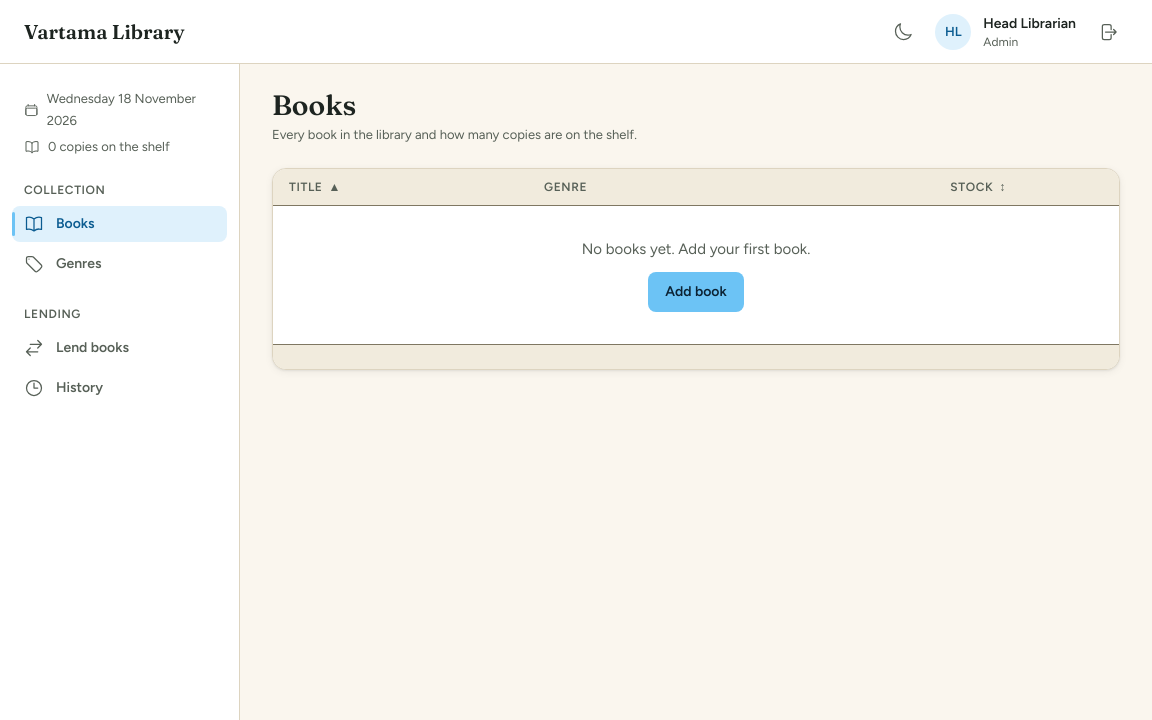
Test: App shell (signed in) › switches and remembers the theme
Click the button named "Switch to dark theme".
click(903, 32)  # box 883,12 -> 923,52
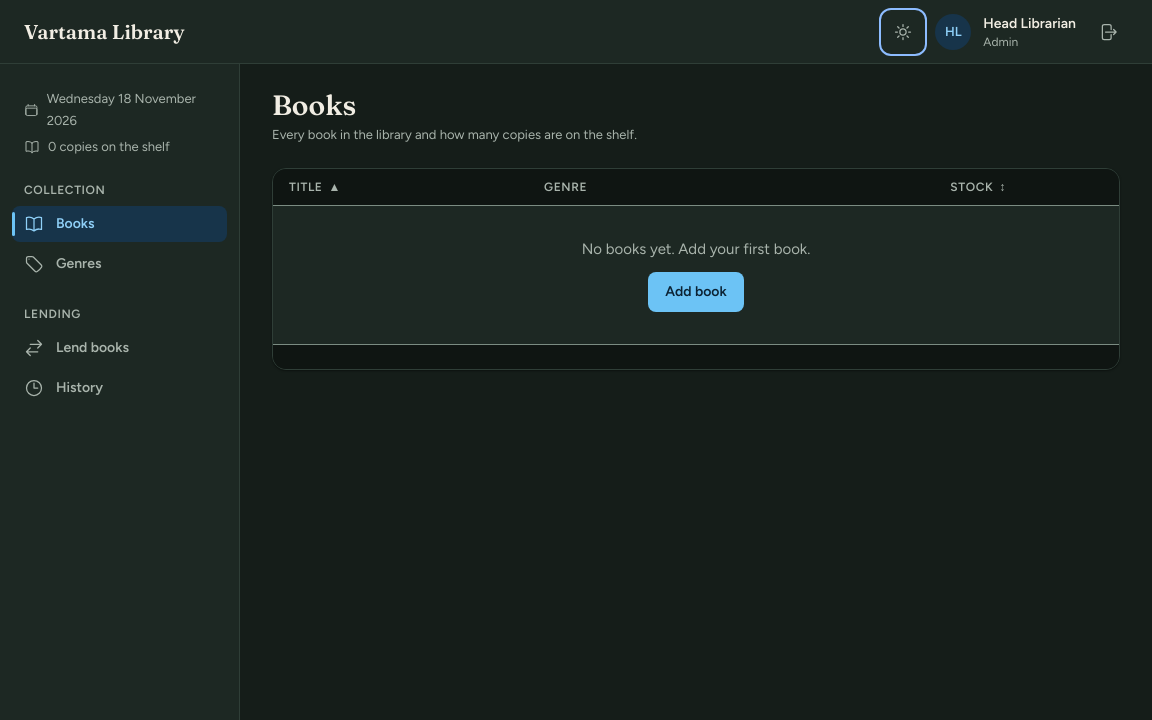
Now the button named "Switch to light theme" is shown, box 883,12 -> 923,52
